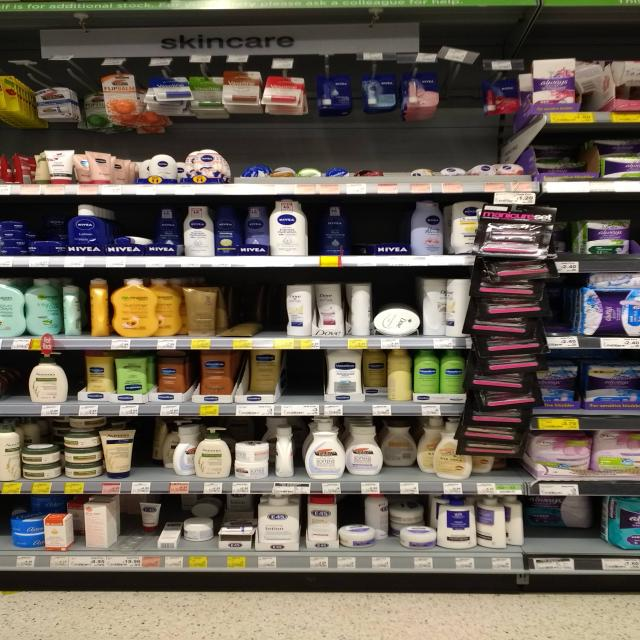empty: (227, 125, 529, 184), (353, 200, 410, 254), (286, 356, 323, 400), (1, 354, 32, 403)
